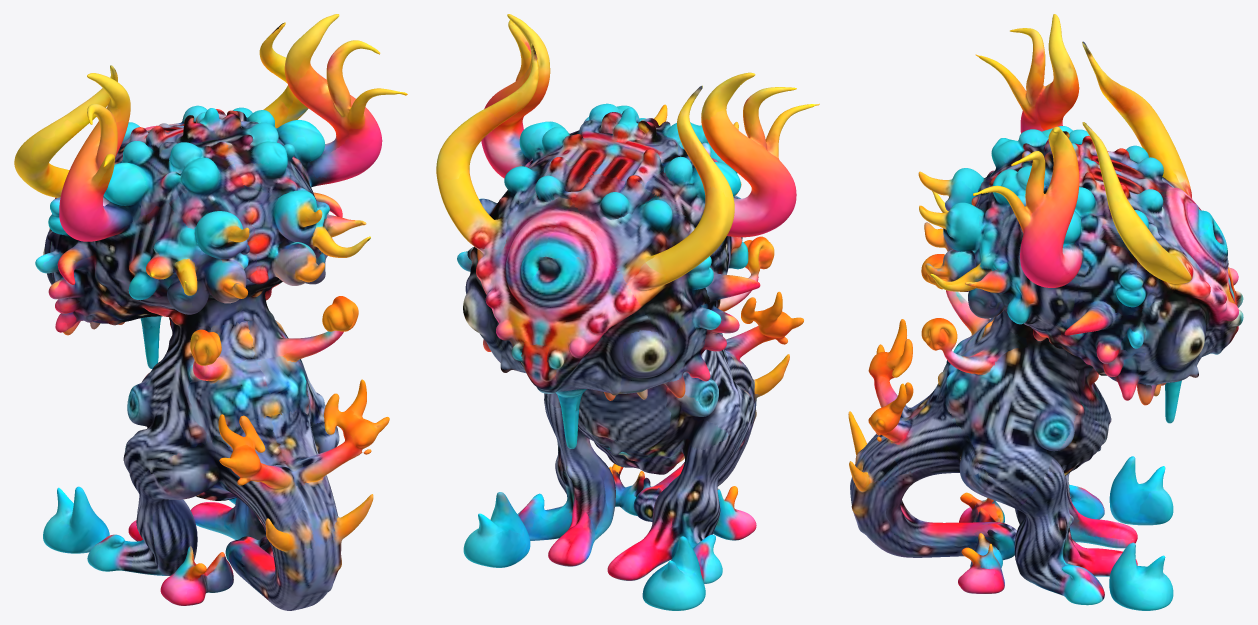
The model's file is tripo3EM3-transformed.glb.
The picture shows the model from 3 angles, left to right: view 1: azimuth 30°, elevation 25°; view 2: azimuth 150°, elevation 25°; view 3: azimuth 270°, elevation 25°; orthographic projection. The views are drawn at different scales.
Parts seen in each view (by area): view 1: tripo_node_8daeafd4-b61b-4a05-af54-1987b972f516; view 2: tripo_node_8daeafd4-b61b-4a05-af54-1987b972f516; view 3: tripo_node_8daeafd4-b61b-4a05-af54-1987b972f516.
Part boxes in pixels (x1,y1,x2,y2): tripo_node_8daeafd4-b61b-4a05-af54-1987b972f516: (14,14,407,610); tripo_node_8daeafd4-b61b-4a05-af54-1987b972f516: (436,14,819,610); tripo_node_8daeafd4-b61b-4a05-af54-1987b972f516: (848,14,1243,610).
Bounding box in the file's own units: 0.6164 × 0.9502 × 0.6997.
Materials: 1 (1 with a texture image).
